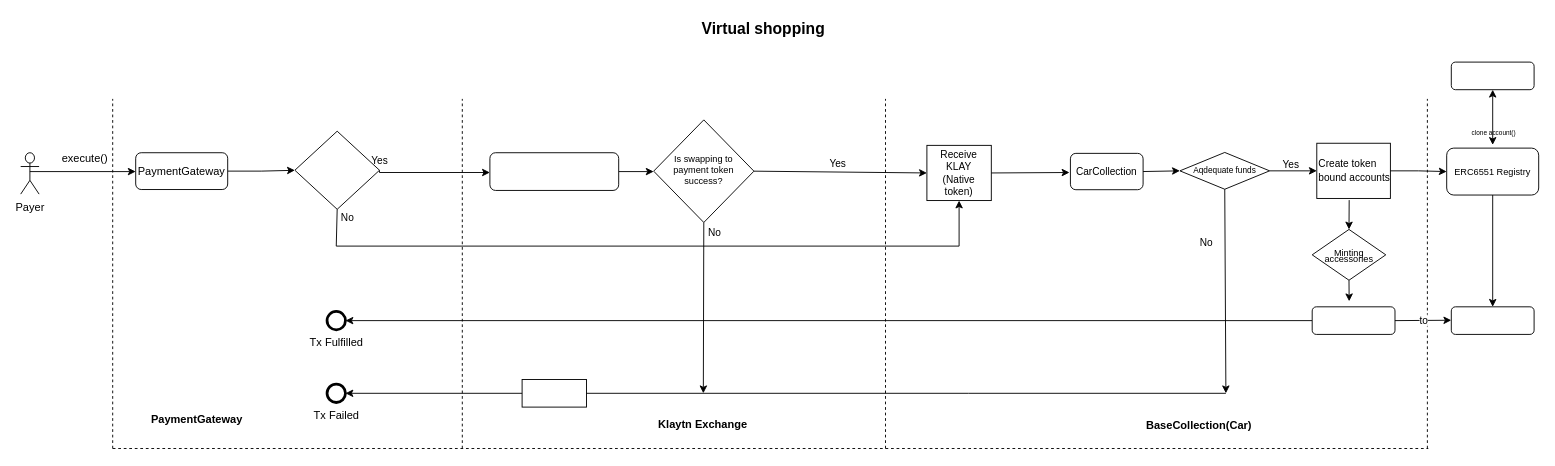
The diagram is 1555 pixels wide and 466 high, and some of its shapes have lost their labels. The box of each missing label's shape, as (x1, y1, x2, y2) in pixels:
Accessory Collections: (1311, 306, 1395, 334)
Account mapping with TokenId: (1450, 306, 1534, 334)
ERC6551 Implementation: (1450, 61, 1534, 90)
Exchange Router: (489, 152, 619, 190)
Pay with token is not KLAY: (294, 130, 380, 209)
Refund to payer: (521, 379, 586, 407)
